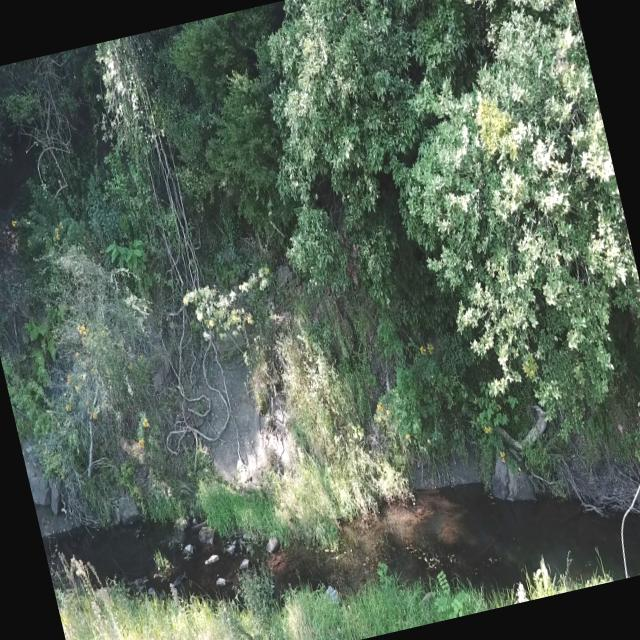Mysore-Thorn-Weed: (99, 226, 156, 286)
